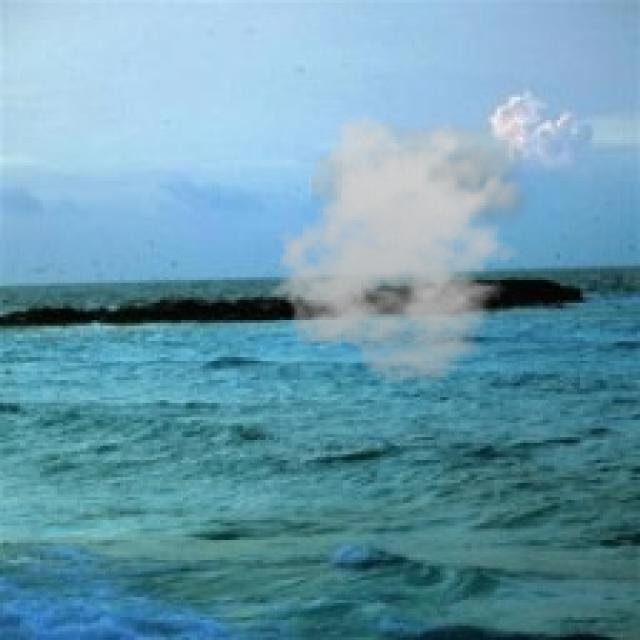Smoke: (268, 106, 538, 386)
